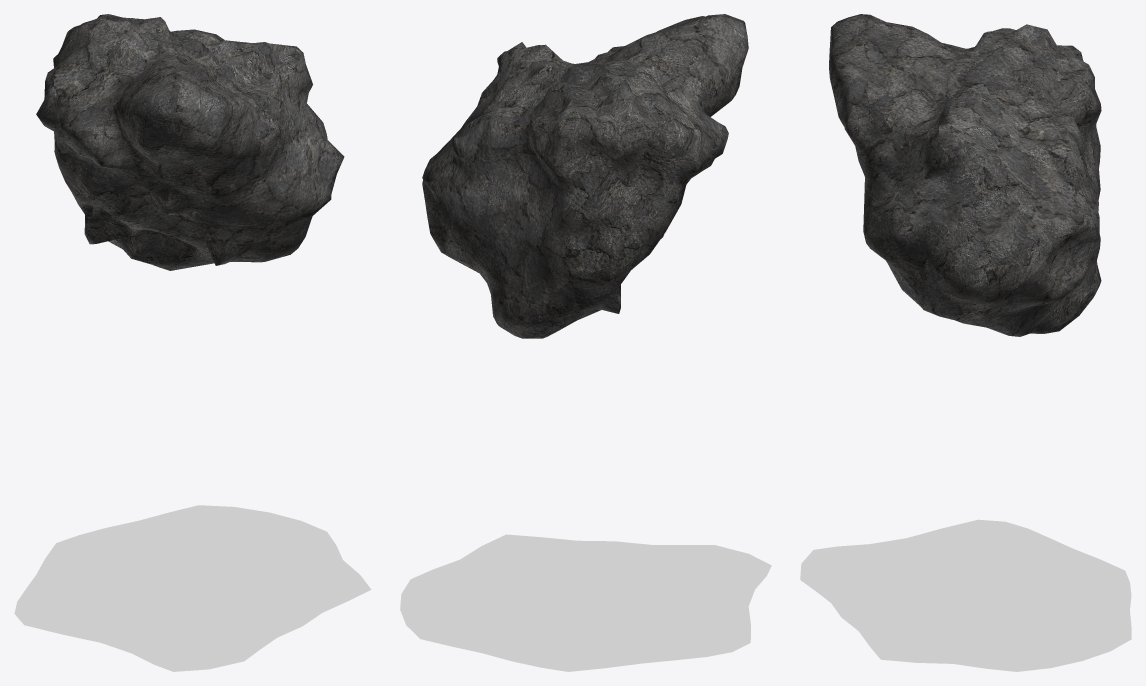
The model's file is asteroid-and-base.glb.
3 views of the same model, side by side, from view 1: azimuth 30°, elevation 25°; view 2: azimuth 150°, elevation 25°; view 3: azimuth 270°, elevation 25° (orthographic). The views are drawn at different scales.
Parts seen in each view (by area): view 1: Cube, Circle; view 2: Cube, Circle; view 3: Cube, Circle.
Boxes of the visible parts, x1,y1,x2,y2 form: Cube: [36, 14, 344, 270]; Circle: [14, 505, 371, 671]; Cube: [422, 14, 748, 338]; Circle: [400, 534, 771, 671]; Cube: [829, 14, 1101, 336]; Circle: [800, 519, 1131, 671].
Bounding box in the file's own units: 1.78 × 2.99 × 1.64.
Materials: 1 (1 with a texture image).
